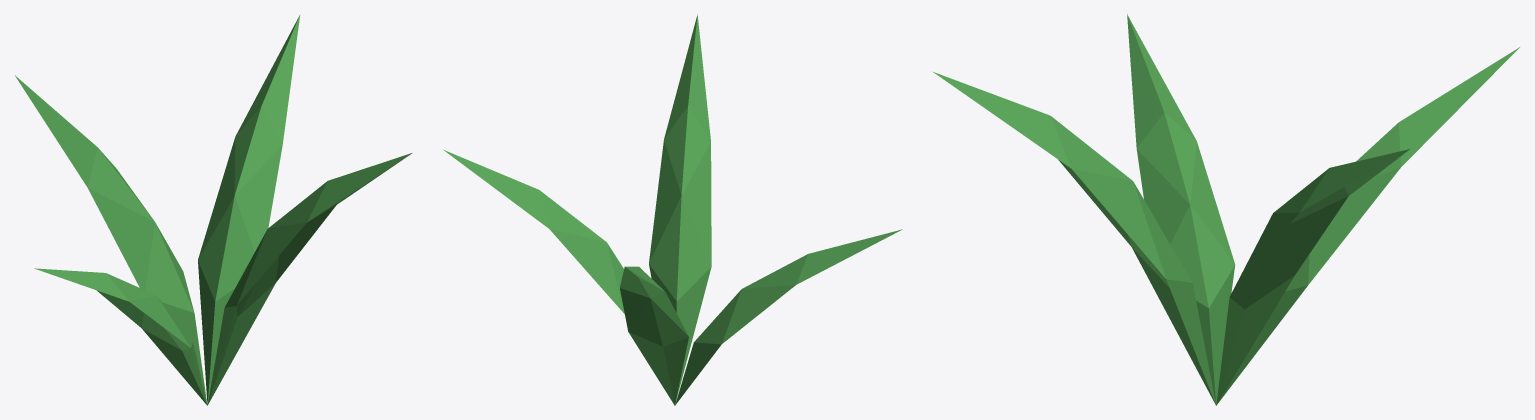
File: Prop_Grass_Clump_2.glb
3 views of the same model, side by side, from view 1: azimuth 30°, elevation 25°; view 2: azimuth 150°, elevation 25°; view 3: azimuth 270°, elevation 25° (orthographic). The views are drawn at different scales.
Visible parts, largest first — view 1: Prop_Grass_Clump_2_Merged; view 2: Prop_Grass_Clump_2_Merged; view 3: Prop_Grass_Clump_2_Merged.
Part boxes in pixels (x1=…): Prop_Grass_Clump_2_Merged: x1=15, y1=14, x2=412, y2=405; Prop_Grass_Clump_2_Merged: x1=443, y1=14, x2=902, y2=405; Prop_Grass_Clump_2_Merged: x1=932, y1=14, x2=1519, y2=405.
Bounding box in the file's own units: 0.5778 × 0.4564 × 0.6259.
